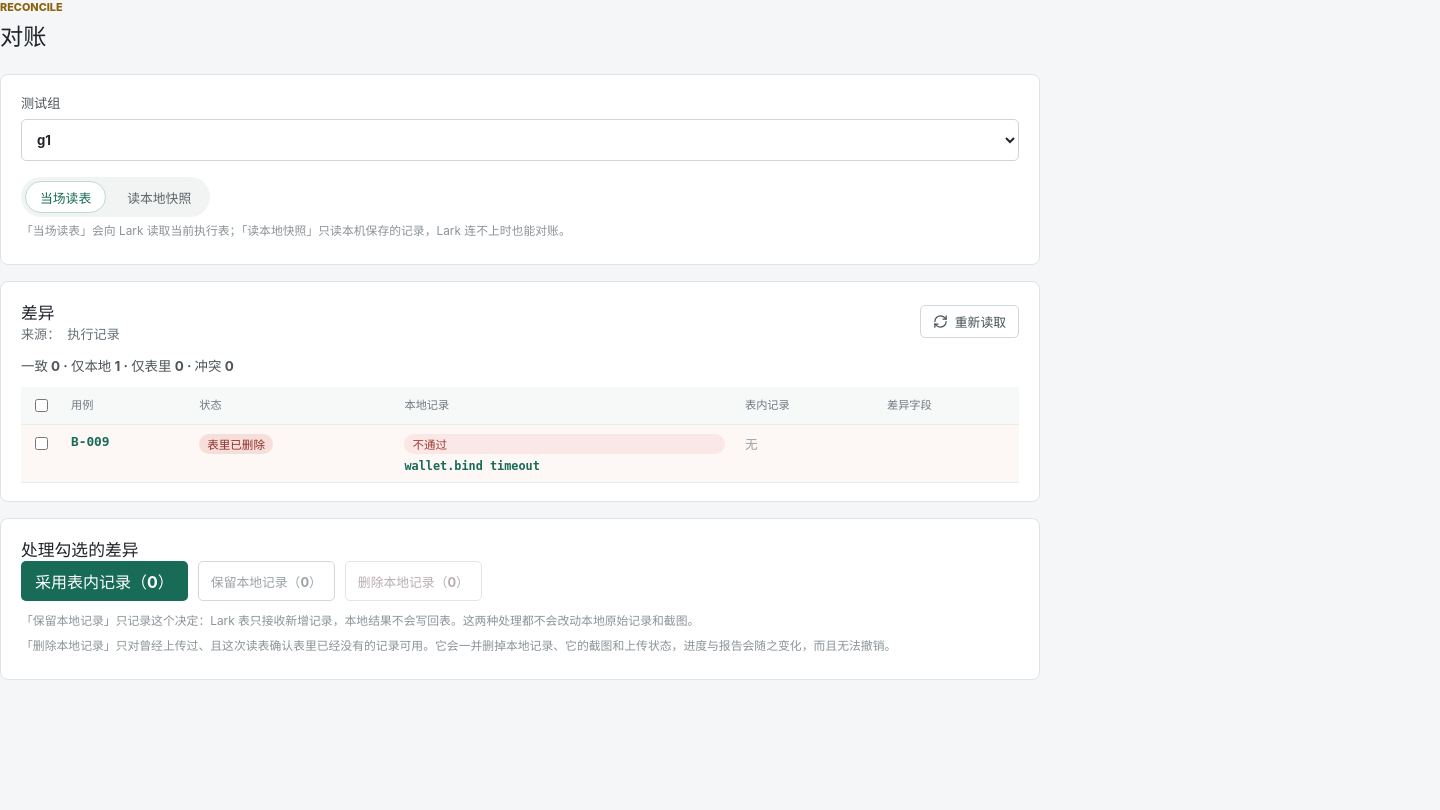
deletes the local record only after a dialog that says what goes with it
Click the checkbox named "选择 B-009" at coordinates (42, 444), box x1=35 y1=437 x2=48 y2=450
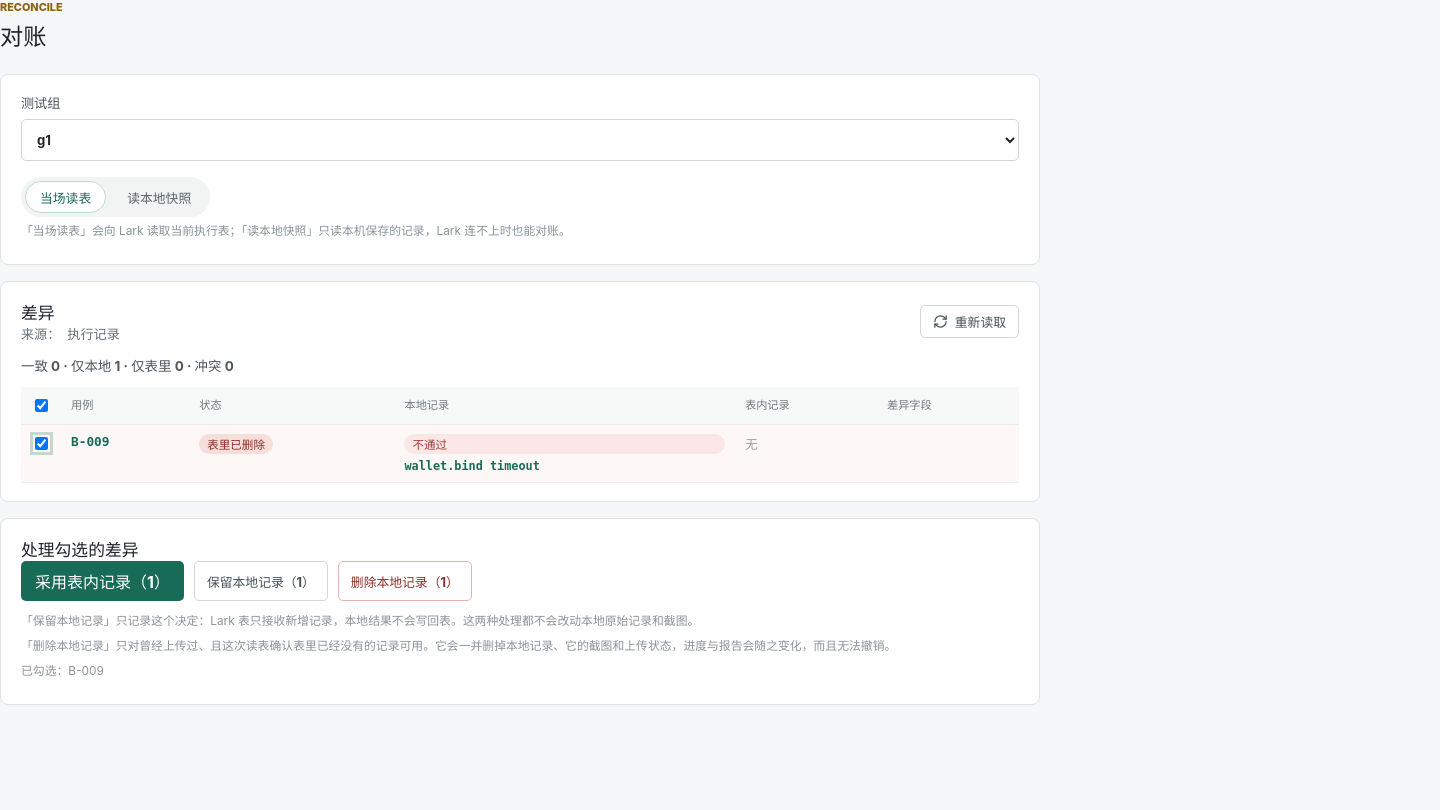
Click the button "删除本地记录（1）" at coordinates (405, 581), box x1=338 y1=561 x2=472 y2=601
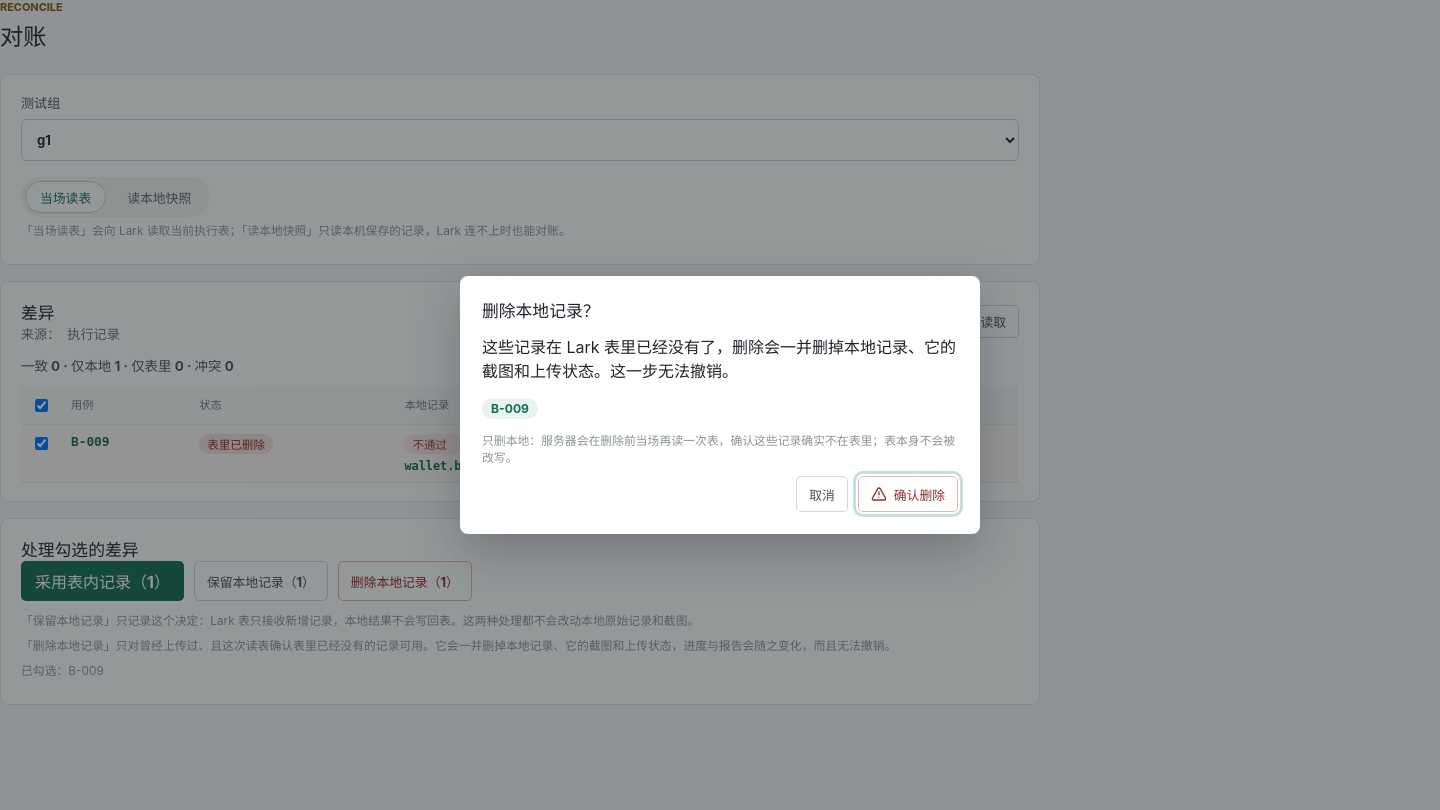
Check: the dialog shows "删除本地记录？", box x1=482 y1=301 x2=600 y2=321
Check: the dialog shows "截图", box x1=460 y1=276 x2=980 y2=534
Check: the dialog shows "无法撤销", box x1=482 y1=337 x2=956 y2=381
Click the button "确认删除" at coordinates (908, 494), box x1=858 y1=476 x2=958 y2=512
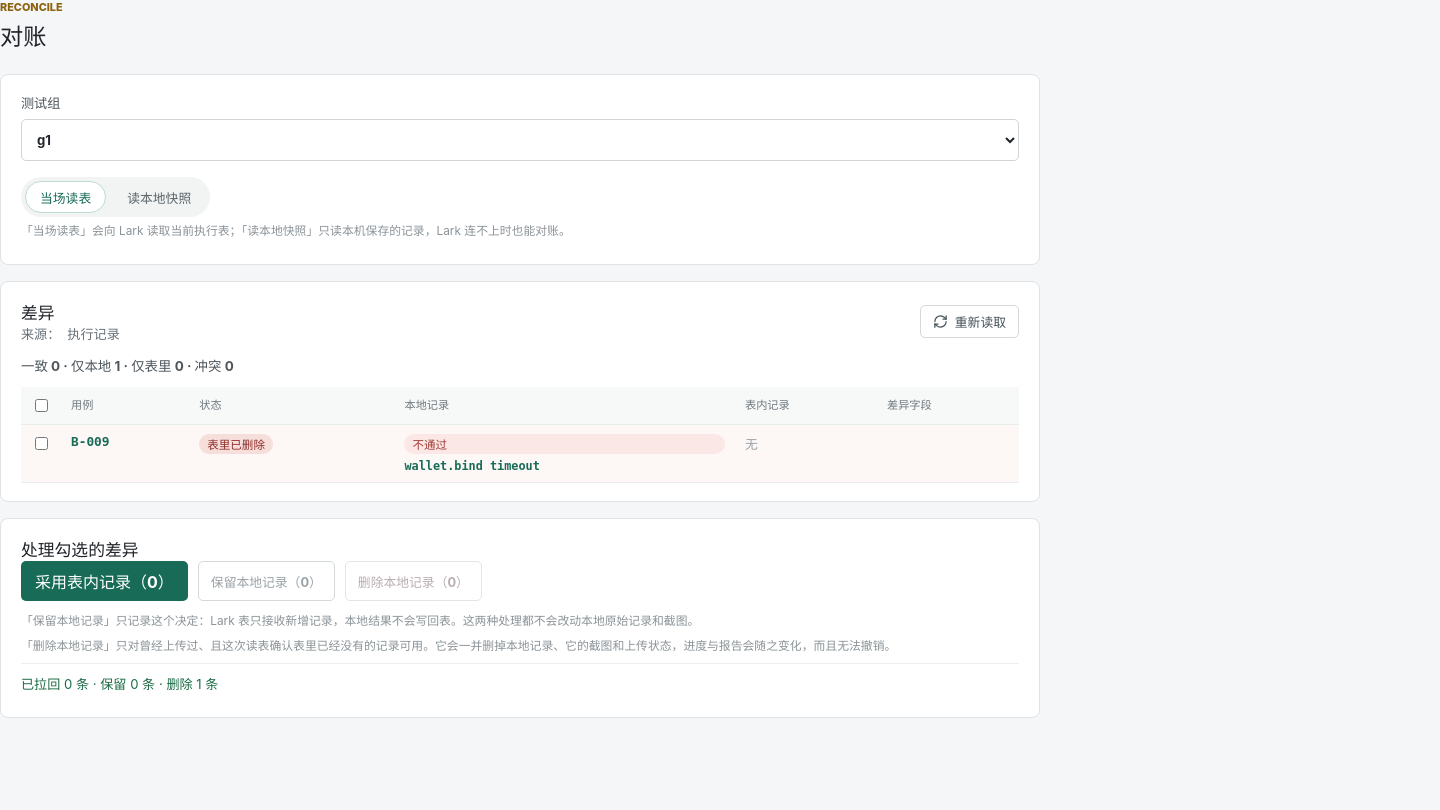
Check: the text "已拉回 0 条 · 保留 0 条 · 删除 1 条" is shown, box x1=21 y1=676 x2=218 y2=692
